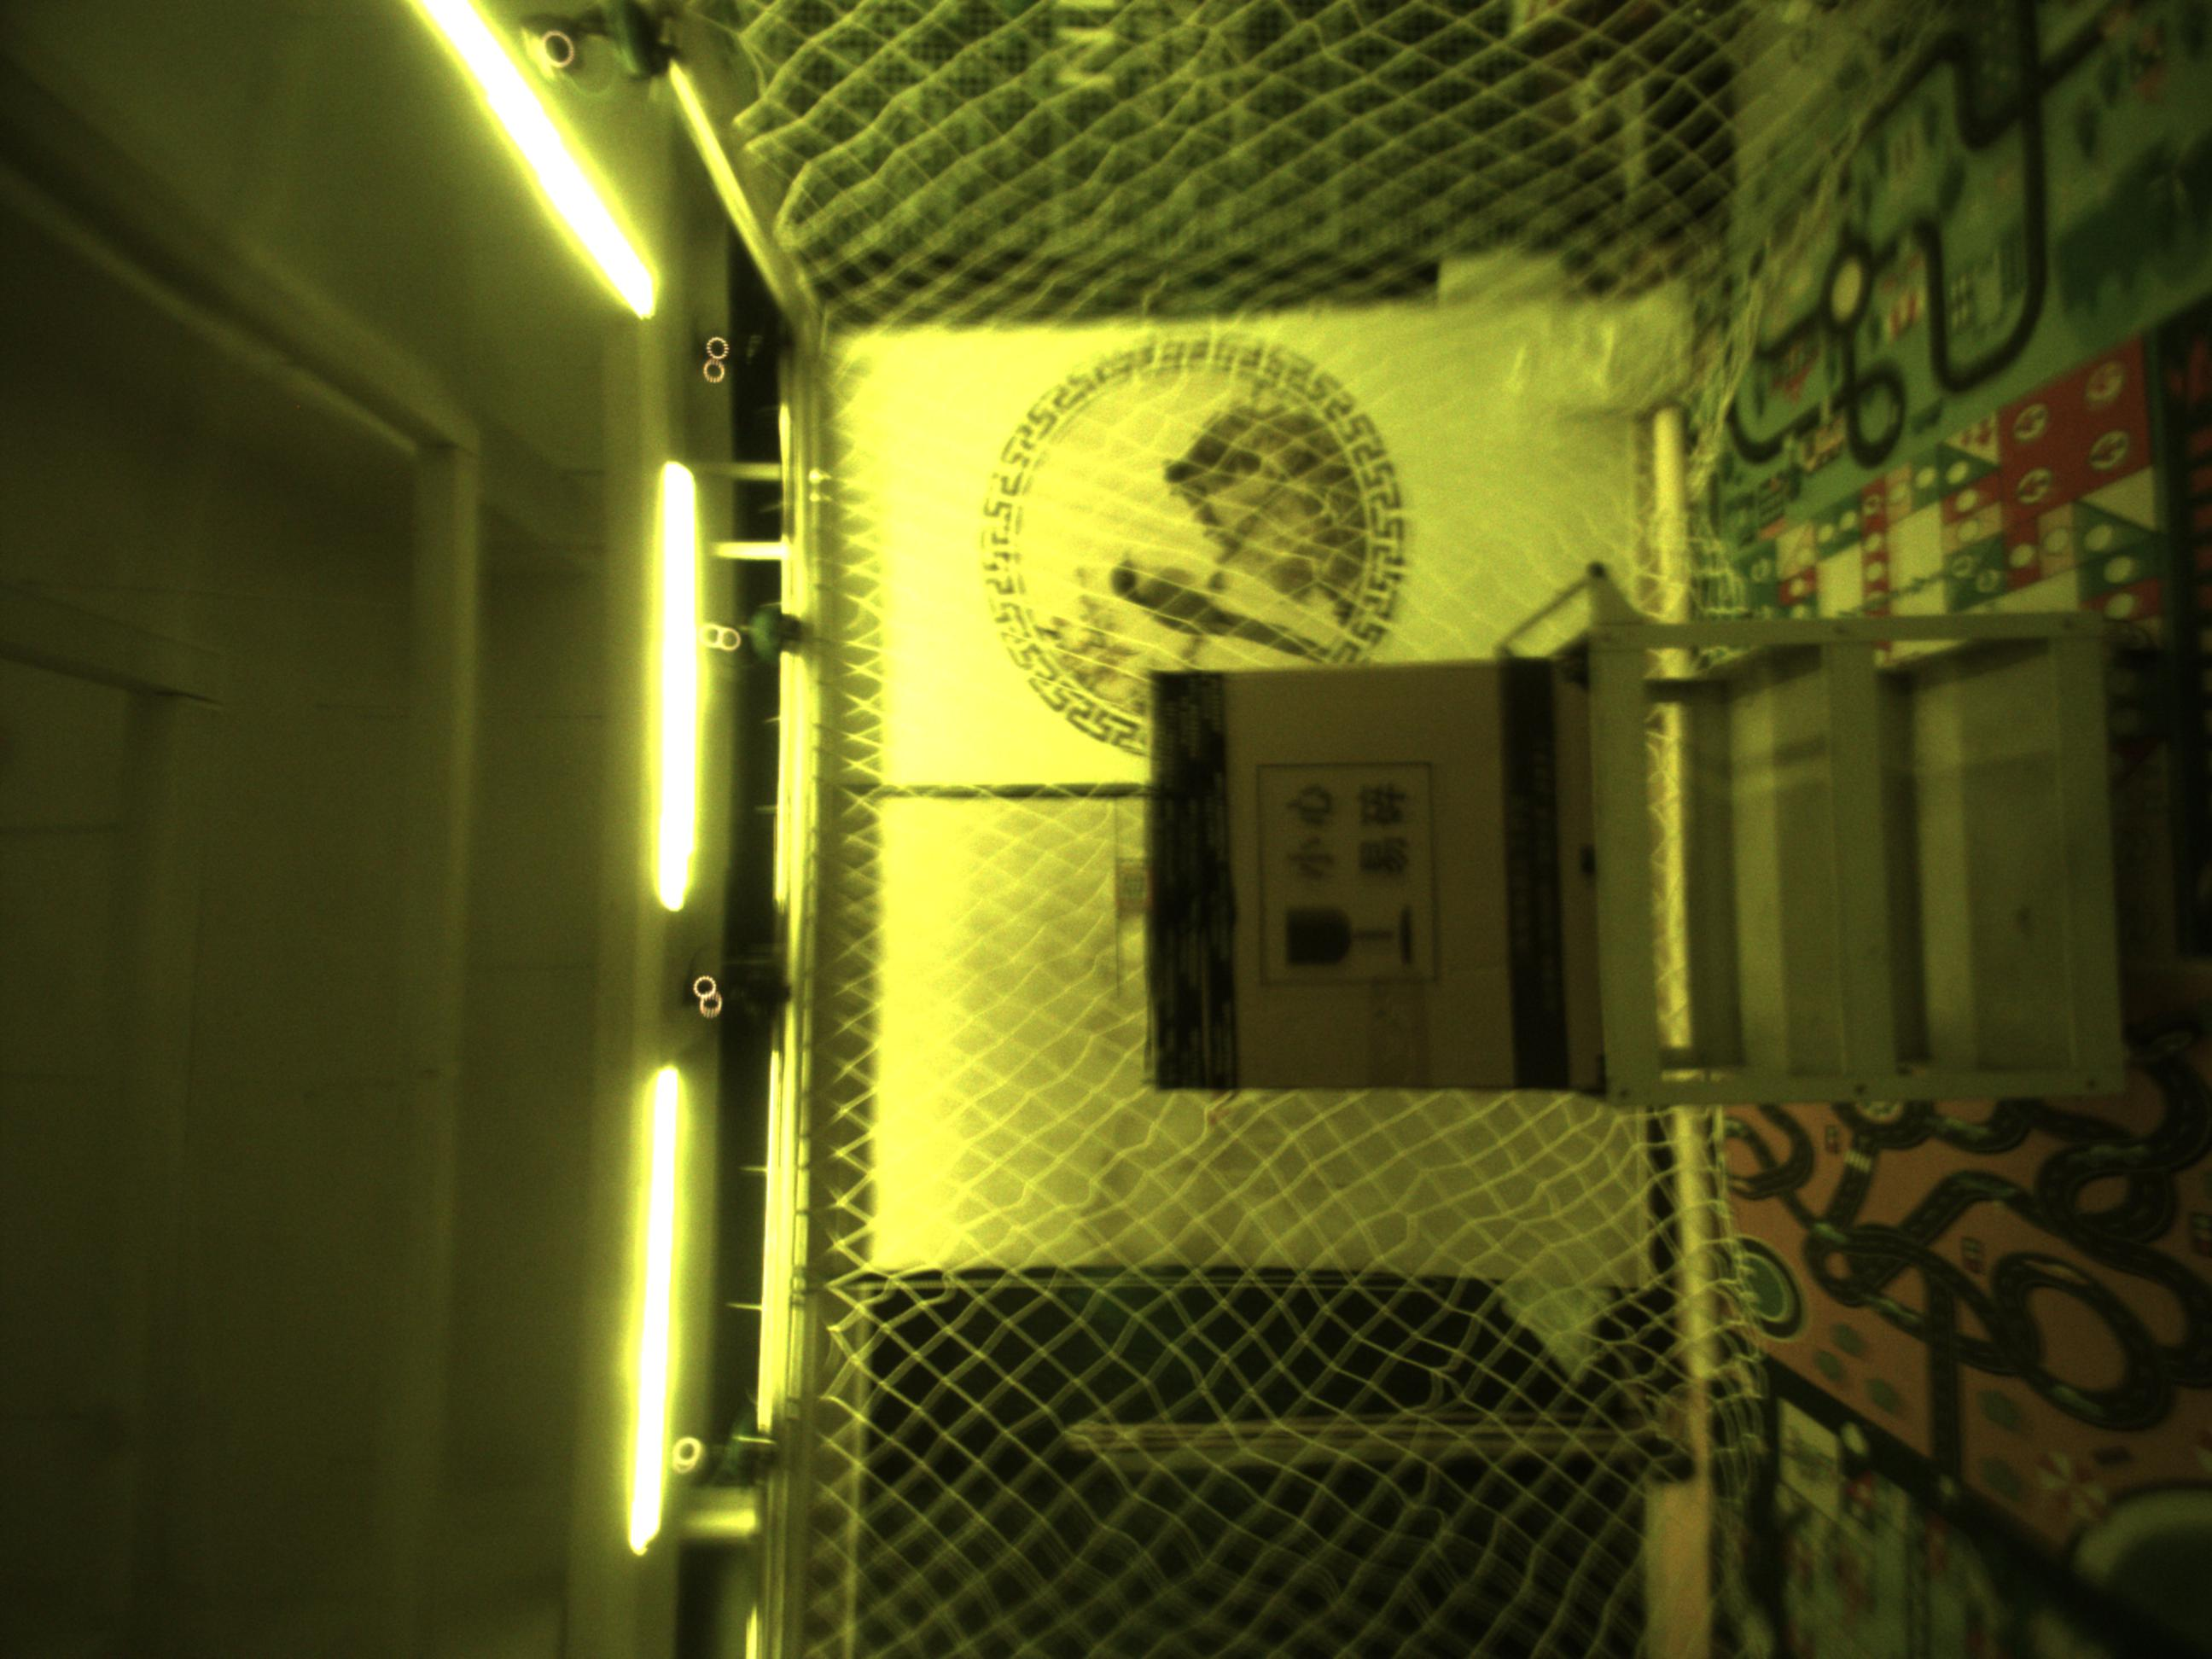outline: (1115, 868, 1153, 910)
